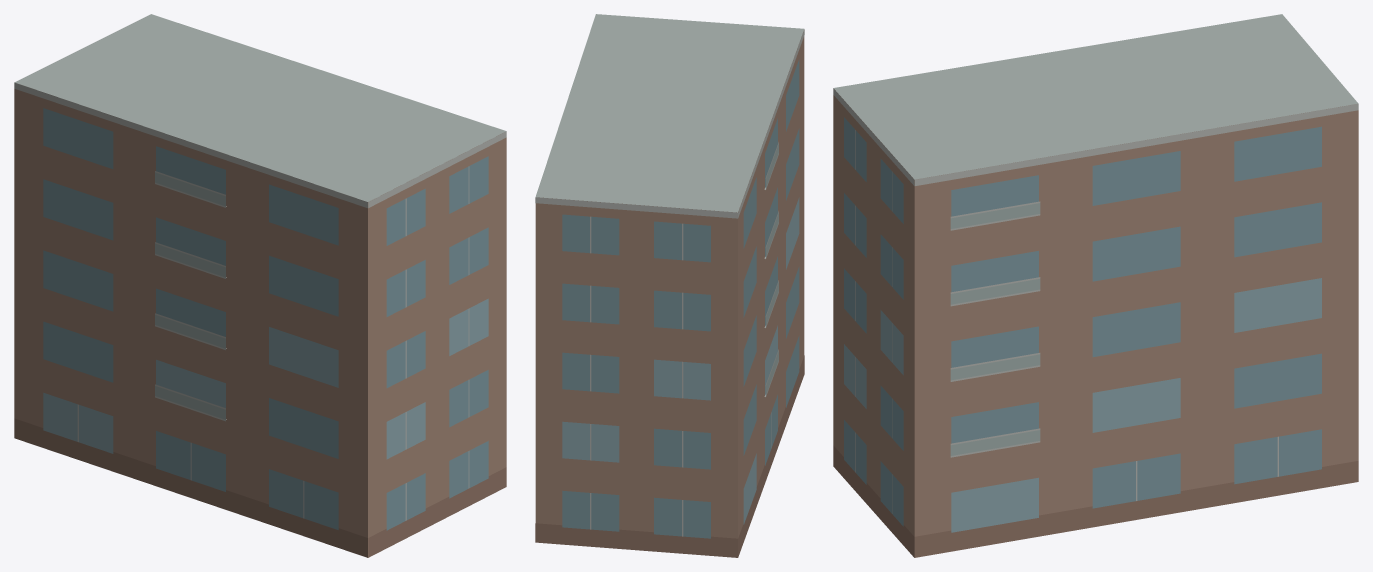
File: survey-upis-32803974.glb
The picture shows the model from 3 angles, left to right: view 1: azimuth 30°, elevation 25°; view 2: azimuth 150°, elevation 25°; view 3: azimuth 270°, elevation 25°; orthographic projection. The views are drawn at different scales.
Visible parts, largest first — view 1: survey-upis-32803974.tmp; view 2: survey-upis-32803974.tmp; view 3: survey-upis-32803974.tmp.
Part boxes in pixels (x1,y1,x2,y2): survey-upis-32803974.tmp: [14, 14, 506, 557]; survey-upis-32803974.tmp: [535, 14, 804, 557]; survey-upis-32803974.tmp: [833, 14, 1358, 557].
Bounding box in the file's own units: 13.07 × 13.9 × 17.5.
